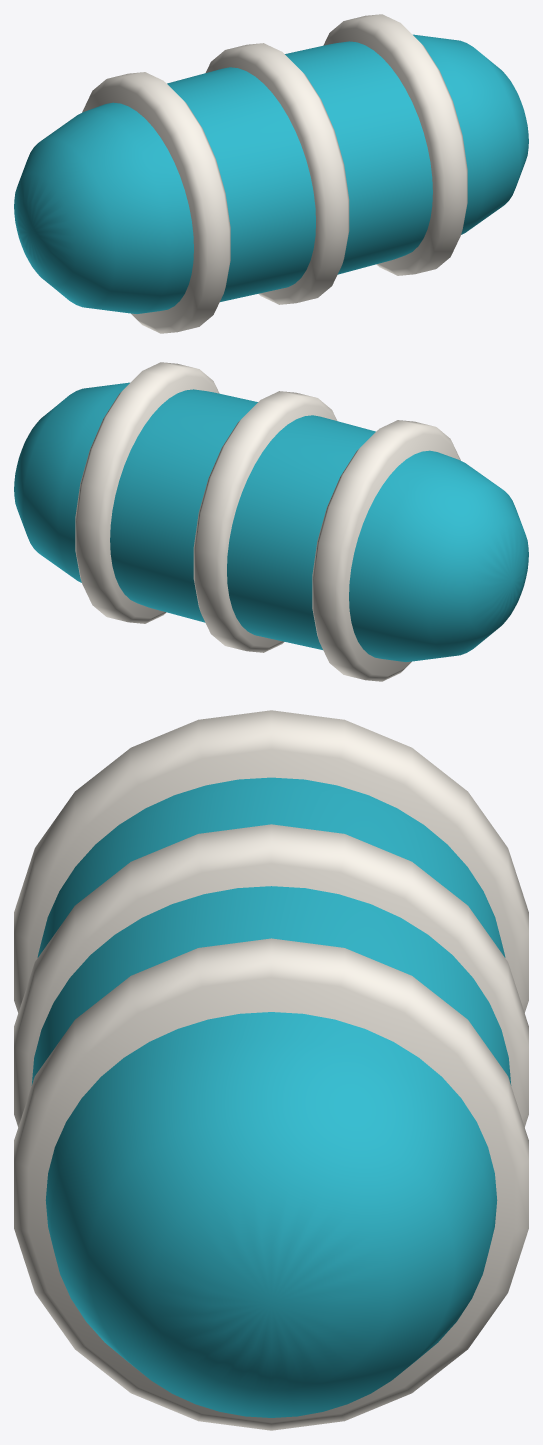
Rendered from special_line.glb.
3 renders of one model, top to bottom at view 1: azimuth 30°, elevation 25°; view 2: azimuth 150°, elevation 25°; view 3: azimuth 270°, elevation 25°, orthographic. The views are drawn at different scales.
Parts seen in each view (by area): view 1: special_line; view 2: special_line; view 3: special_line.
Part boxes in pixels (left/top/right/bottom): special_line: left=14, top=14, right=528, bottom=333; special_line: left=14, top=362, right=528, bottom=681; special_line: left=14, top=710, right=528, bottom=1430.
Size of the model in its own units: 0.8973 by 0.424 by 0.4197.
